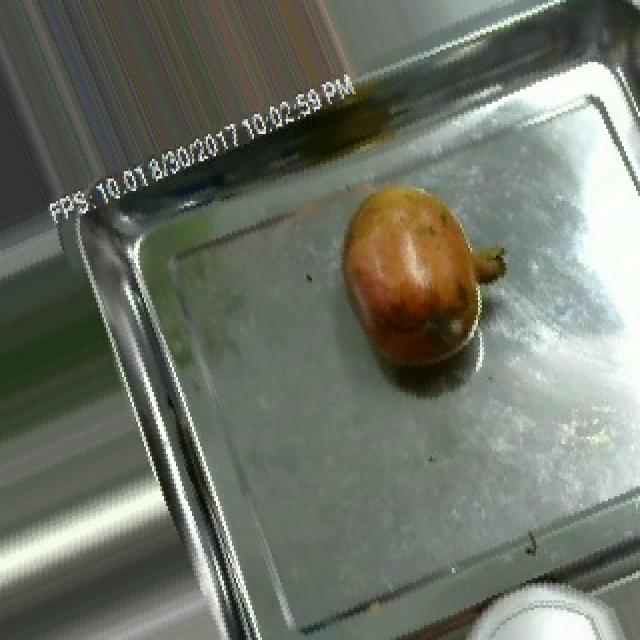fruit: (318, 162, 532, 404)
